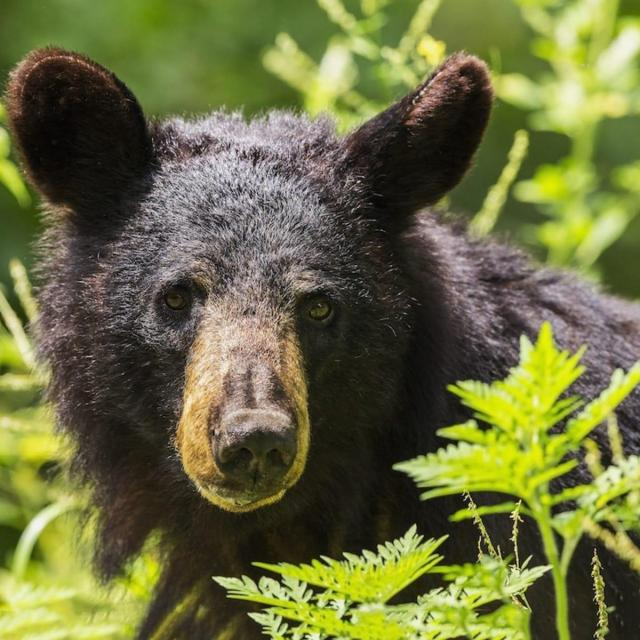Bear: (3, 46, 640, 640)
